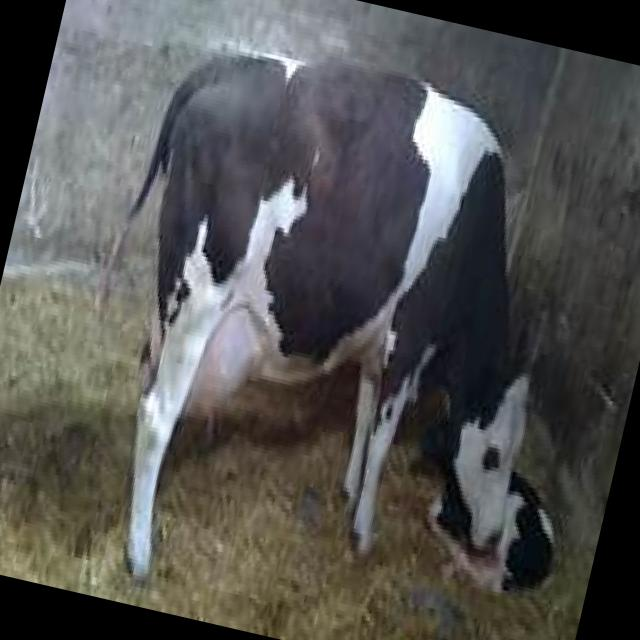animal: (33, 9, 640, 640)
